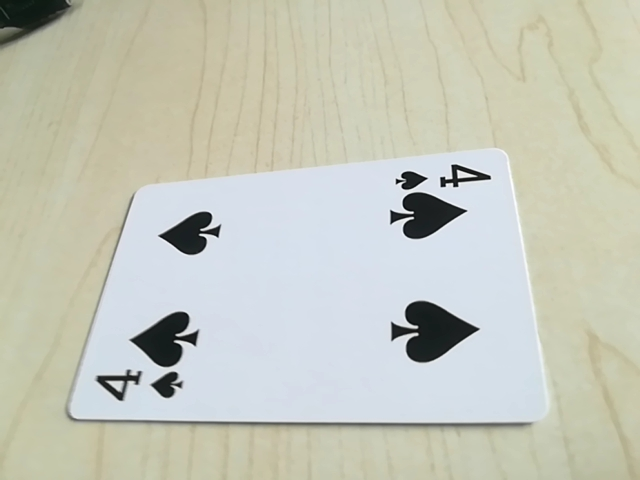ht 4: (89, 365, 191, 410), (389, 159, 494, 196)
